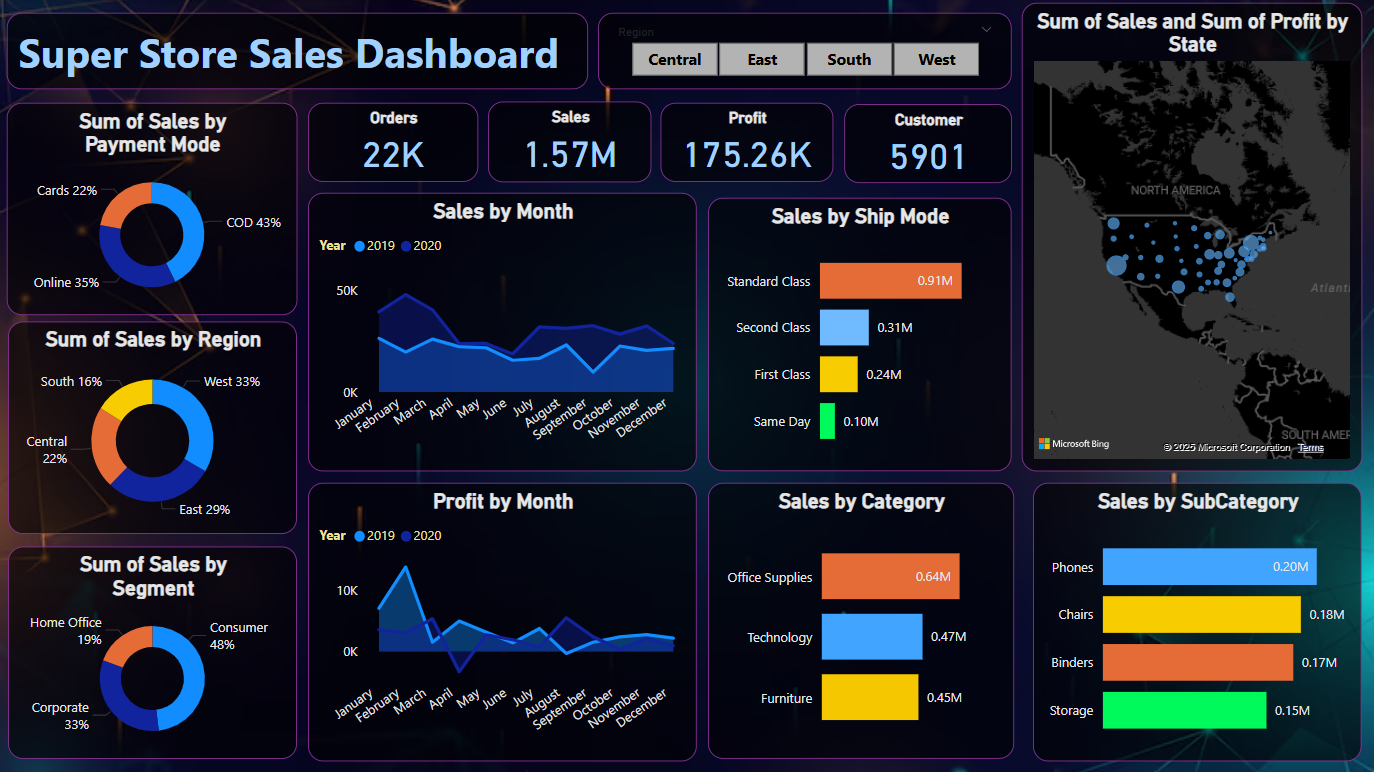

Layout of this report page (visuals, bound fields, positions):
{"tool":"powerbi","page":{"name":"Page 1","canvas":[1280,720],"ordinal":0},"visuals":[{"type":"clusteredBarChart","title":"Sales by Category","fields":{"Category":["SuperStore_Sales_Dataset.Category"],"Y":["Sum(SuperStore_Sales_Dataset.Sales)"]},"box":[660.7,450,284.5,257.1],"z":0},{"type":"clusteredBarChart","title":"Sales by Ship Mode","fields":{"Y":["Sum(SuperStore_Sales_Dataset.Sales)"],"Category":["SuperStore_Sales_Dataset.Ship Mode"]},"box":[660.7,184.5,282.1,254.8],"z":1000},{"type":"clusteredBarChart","title":"Sales by SubCategory","fields":{"Category":["SuperStore_Sales_Dataset.Sub-Category"],"Y":["Sum(SuperStore_Sales_Dataset.Sales)"]},"box":[963.1,450,306,259.5],"z":2000},{"type":"areaChart","title":"Sales by Month","fields":{"Y":["Sum(SuperStore_Sales_Dataset.Sales)"],"Series":["SuperStore_Sales_Dataset.Order Date.Variation.Date Hierarchy.Year"],"Category":["SuperStore_Sales_Dataset.Order Date.Variation.Date Hierarchy.Month","SuperStore_Sales_Dataset.Order Date.Variation.Date Hierarchy.Day"]},"box":[288.1,179.8,361.9,259.5],"z":3000},{"type":"areaChart","title":"Profit by Month","fields":{"Category":["SuperStore_Sales_Dataset.Order Date.Variation.Date Hierarchy.Month","SuperStore_Sales_Dataset.Order Date.Variation.Date Hierarchy.Day"],"Y":["Sum(SuperStore_Sales_Dataset.Profit)"],"Series":["SuperStore_Sales_Dataset.Order Date.Variation.Date Hierarchy.Year"]},"box":[288.1,450,361.9,259.5],"z":4000},{"type":"map","fields":{"Category":["SuperStore_Sales_Dataset.State"],"Size":["Sum(SuperStore_Sales_Dataset.Sales)"]},"box":[952.4,3.6,316.7,435.7],"z":5000},{"type":"donutChart","fields":{"Category":["SuperStore_Sales_Dataset.Segment"],"Y":["Sum(SuperStore_Sales_Dataset.Sales)"]},"box":[9.5,509.5,269,197.6],"z":6000},{"type":"donutChart","fields":{"Category":["SuperStore_Sales_Dataset.Payment Mode"],"Y":["Sum(SuperStore_Sales_Dataset.Sales)"]},"box":[8.3,96.4,270.2,197.6],"z":7000},{"type":"slicer","fields":{"Values":["SuperStore_Sales_Dataset.Region"]},"box":[558.3,13.1,384.5,71.4],"z":8000},{"type":"textbox","box":[8.3,13.1,540.5,71.4],"z":9000},{"type":"card","title":"Sales","fields":{"Values":["Sum(SuperStore_Sales_Dataset.Sales)"]},"box":[456,95.2,152.4,75],"z":10000},{"type":"card","title":"Orders","fields":{"Values":["Sum(SuperStore_Sales_Dataset.Quantity)"]},"box":[288.1,96.4,158.3,73.8],"z":11000},{"type":"card","title":"Profit","fields":{"Values":["Sum(SuperStore_Sales_Dataset.Profit)"]},"box":[616.7,96.4,160.7,73.8],"z":12000},{"type":"donutChart","fields":{"Category":["SuperStore_Sales_Dataset.Region"],"Y":["Sum(SuperStore_Sales_Dataset.Sales)"]},"box":[9.5,300,269,197.6],"z":13000},{"type":"card","title":"Customer","fields":{"Values":["CountNonNull(SuperStore_Sales_Dataset.Customer ID)"]},"box":[786.9,97.6,156,73.8],"z":14000}]}

Visuals, with their boxes in screenshot pixels (x1, y1, x2, y2), scaled from the page's 1280x720 canvas onto the 1374x772 screenshot:
"Sales by Category" clusteredBarChart: crop(709, 482, 1015, 758)
"Sales by Ship Mode" clusteredBarChart: crop(709, 198, 1012, 471)
"Sales by SubCategory" clusteredBarChart: crop(1034, 482, 1362, 761)
"Sales by Month" areaChart: crop(309, 193, 698, 471)
"Profit by Month" areaChart: crop(309, 482, 698, 761)
map - SuperStore_Sales_Dataset.State x Sum(SuperStore_Sales_Dataset.Sales): crop(1022, 4, 1362, 471)
donutChart - SuperStore_Sales_Dataset.Segment x Sum(SuperStore_Sales_Dataset.Sales): crop(10, 546, 299, 758)
donutChart - SuperStore_Sales_Dataset.Payment Mode x Sum(SuperStore_Sales_Dataset.Sales): crop(9, 103, 299, 315)
slicer - SuperStore_Sales_Dataset.Region: crop(599, 14, 1012, 91)
textbox: crop(9, 14, 589, 91)
"Sales" card: crop(489, 102, 653, 182)
"Orders" card: crop(309, 103, 479, 182)
"Profit" card: crop(662, 103, 834, 182)
donutChart - SuperStore_Sales_Dataset.Region x Sum(SuperStore_Sales_Dataset.Sales): crop(10, 322, 299, 534)
"Customer" card: crop(845, 105, 1012, 184)
